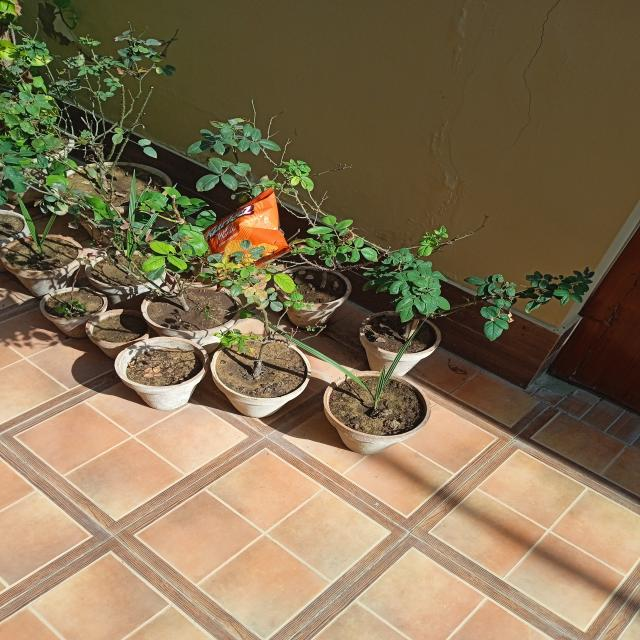Plastic: (203, 192, 284, 252)
